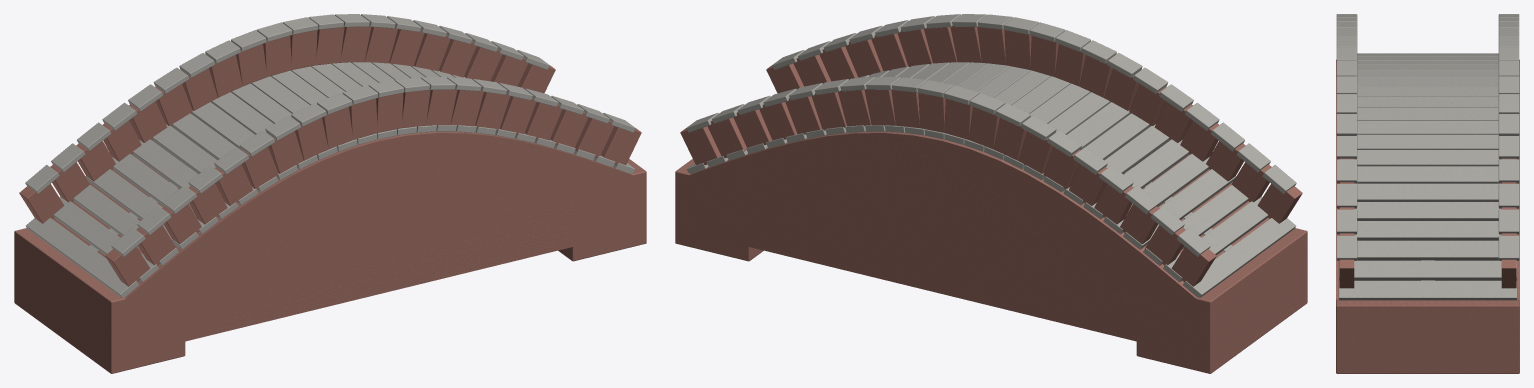
The model's file is canal-humpback-bridge.glb.
3 renders of one model, left to right at view 1: azimuth 30°, elevation 25°; view 2: azimuth 150°, elevation 25°; view 3: azimuth 270°, elevation 25°, orthographic. The views are drawn at different scales.
Parts seen in each view (by area): view 1: canal-humpback-bridge; view 2: canal-humpback-bridge; view 3: canal-humpback-bridge.
Boxes of the visible parts, x1,y1,x2,y2 form: canal-humpback-bridge: (14,14,646,373); canal-humpback-bridge: (675,14,1307,373); canal-humpback-bridge: (1336,14,1519,373).
Size of the model in its own units: 10.8 by 4.17 by 3.4.
2 materials, 2 textured.
